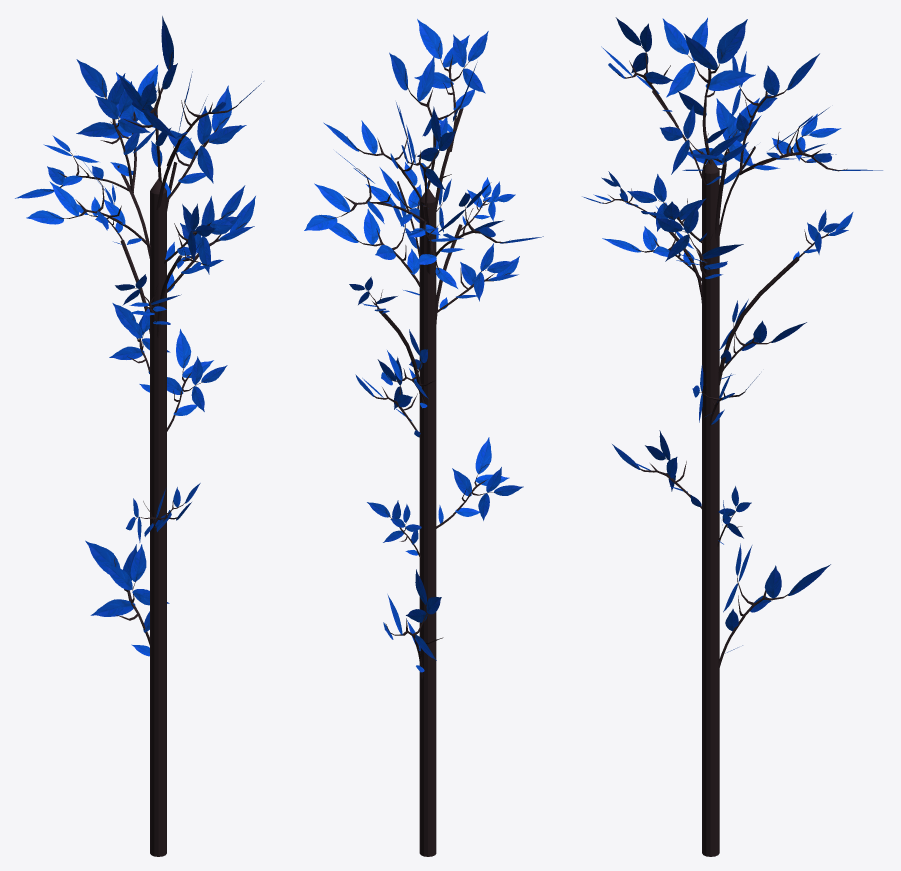
The model's file is bluetree14.fbx.
3 renders of one model, left to right at view 1: azimuth 30°, elevation 25°; view 2: azimuth 150°, elevation 25°; view 3: azimuth 270°, elevation 25°, orthographic. The views are drawn at different scales.
Visible parts, largest first — view 1: pCylinder1063; view 2: pCylinder1063; view 3: pCylinder1063.
Boxes of the visible parts, box(x1,y1,x2,y2) form: pCylinder1063: box(15, 16, 263, 856); pCylinder1063: box(304, 19, 543, 856); pCylinder1063: box(582, 17, 882, 856).
Bounding box in the file's own units: 10.72 × 35.94 × 11.84.
